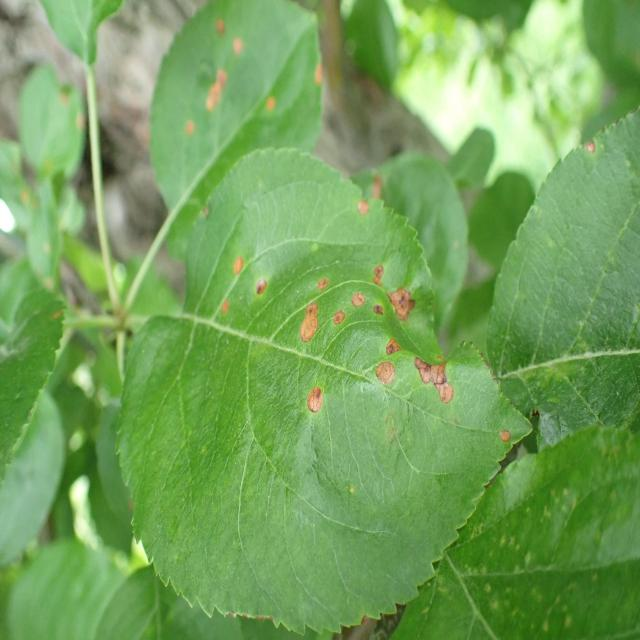frog-eye-leaf-spot: (114, 146, 536, 638)
rust: (148, 0, 323, 223)
